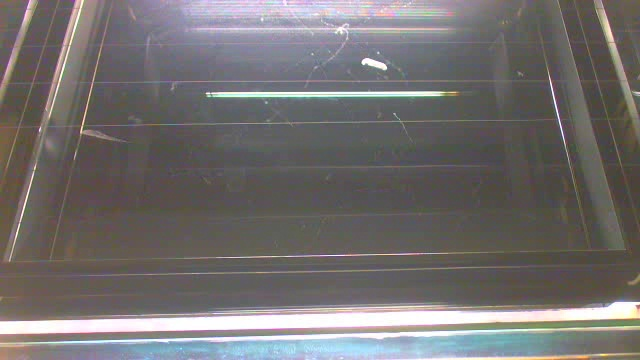Alfa: (81, 126, 122, 141), (361, 54, 391, 70)
